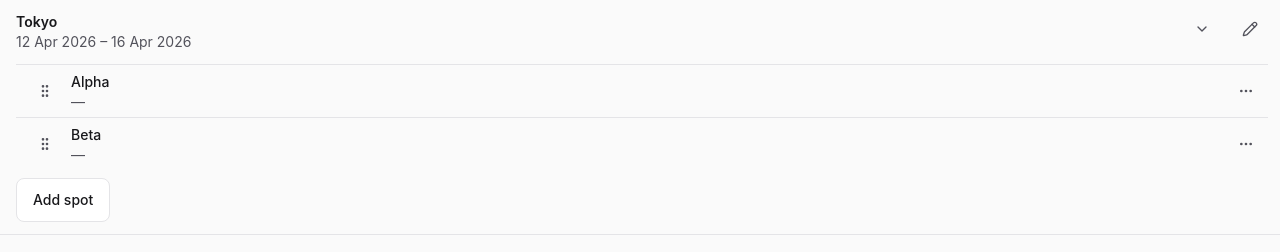
it: schedule reorder controls › T-18-06 ends each row in one menu without the impossible move
The width and height of the screenshot is (1280, 252).
Click the button named "Actions for Alpha".
click(1246, 91)  # box [1224,69,1268,113]
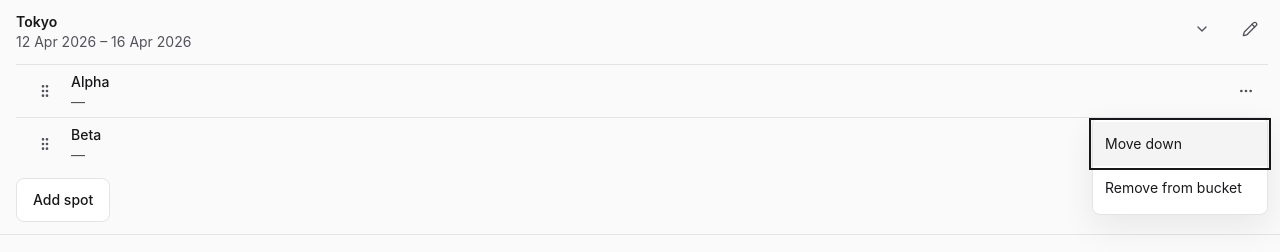
Expected: the menu item "Move down" is shown, [1093,122,1267,166]
Expected: the menu item "Remove from bucket" is shown, [1093,166,1267,210]
